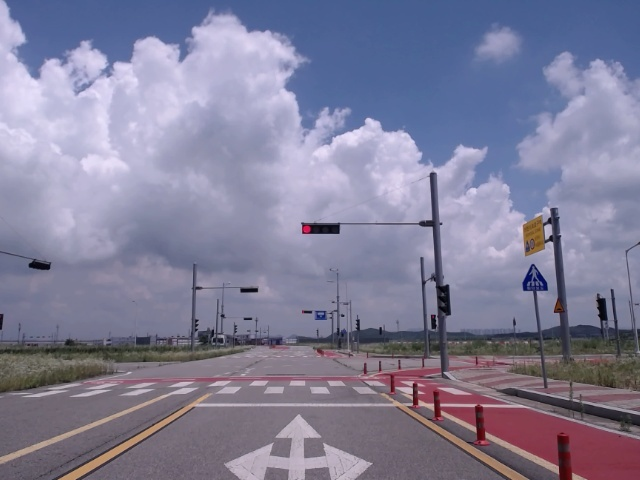red_4: (302, 222, 340, 234)
